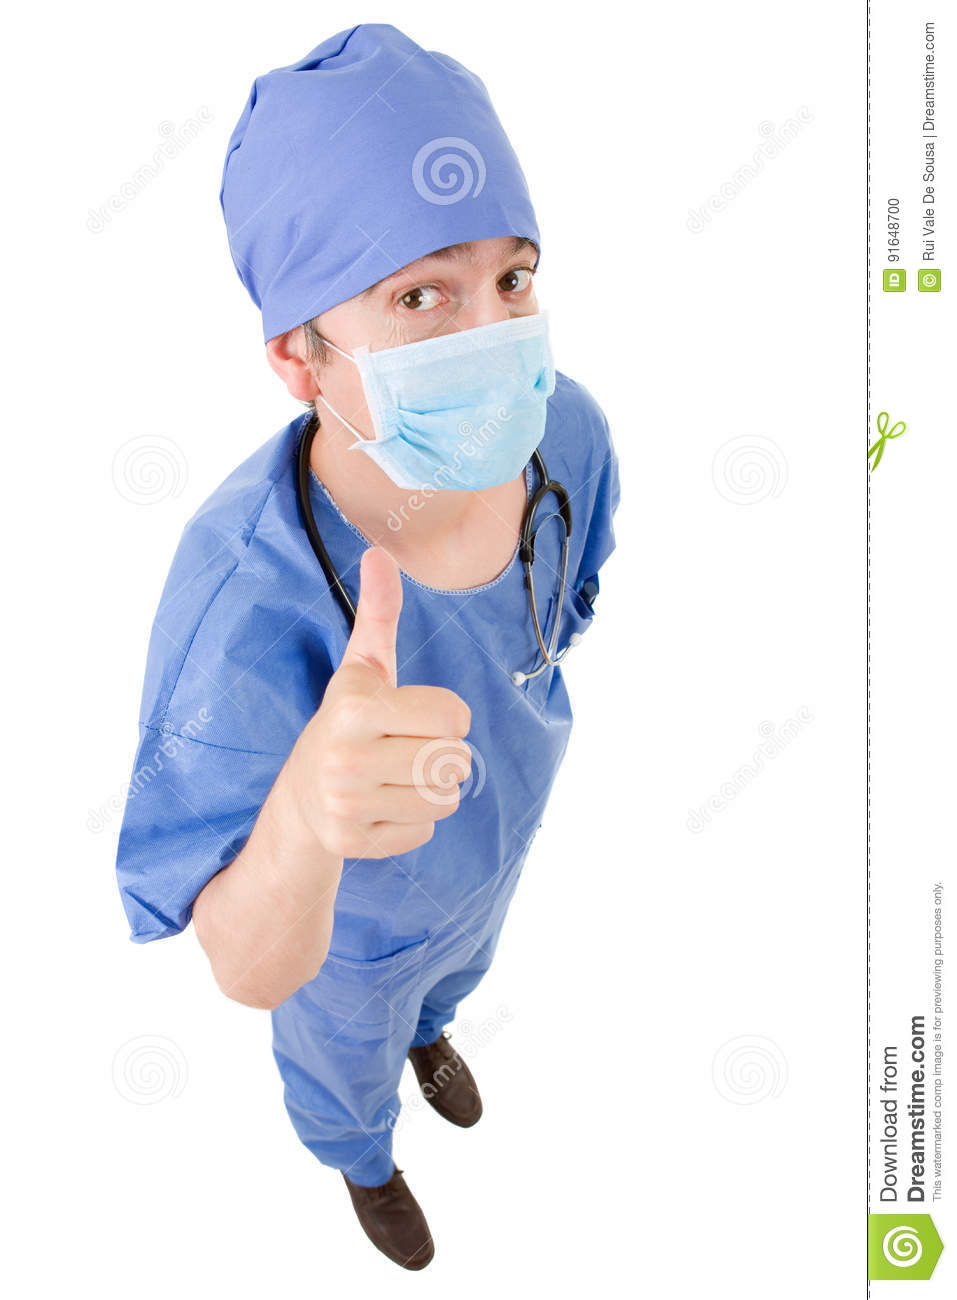mask: (346, 311, 592, 499)
